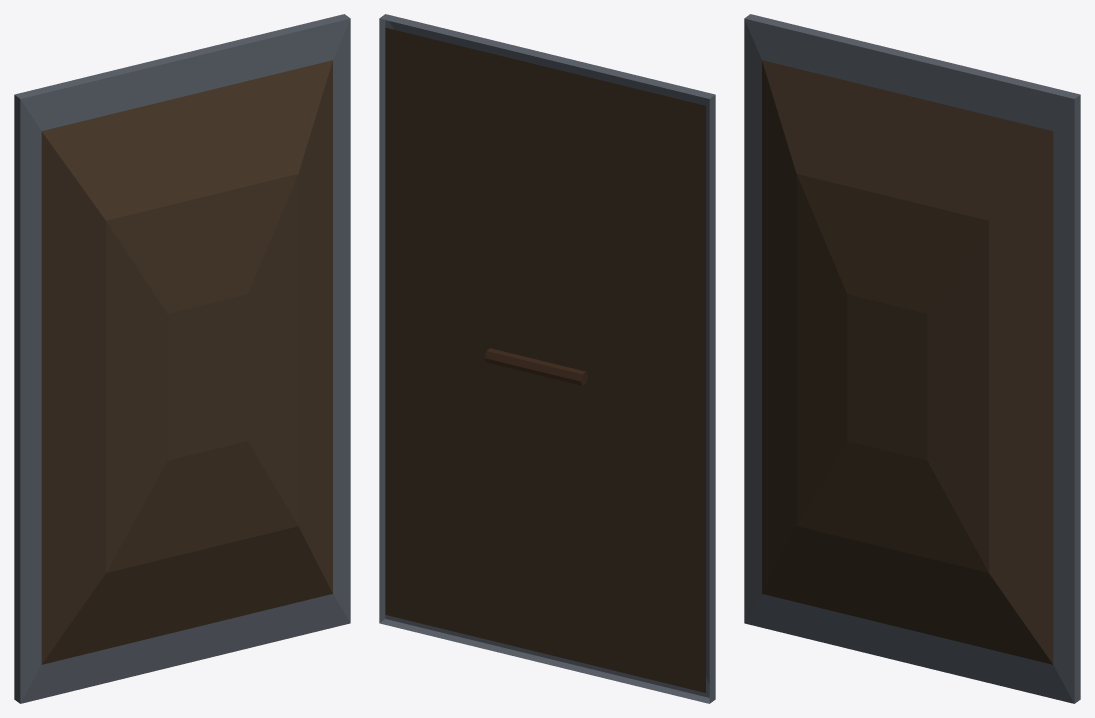
File: g-shield-tower.glb
The picture shows the model from 3 angles, left to right: view 1: azimuth 30°, elevation 25°; view 2: azimuth 150°, elevation 25°; view 3: azimuth 330°, elevation 25°; orthographic projection.
Parts seen in each view (by area): view 1: g-shield-tower; view 2: g-shield-tower; view 3: g-shield-tower.
Boxes of the visible parts, bbox=[...] form: g-shield-tower: bbox=[14, 14, 350, 703]; g-shield-tower: bbox=[379, 14, 715, 703]; g-shield-tower: bbox=[744, 14, 1080, 703].
Bounding box in the file's own units: 0.618 × 1.08 × 0.1295.
